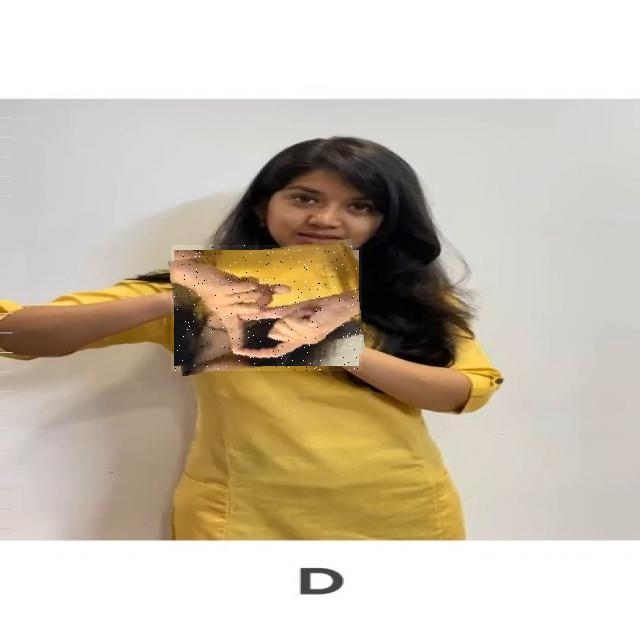D: (171, 245, 362, 371)
